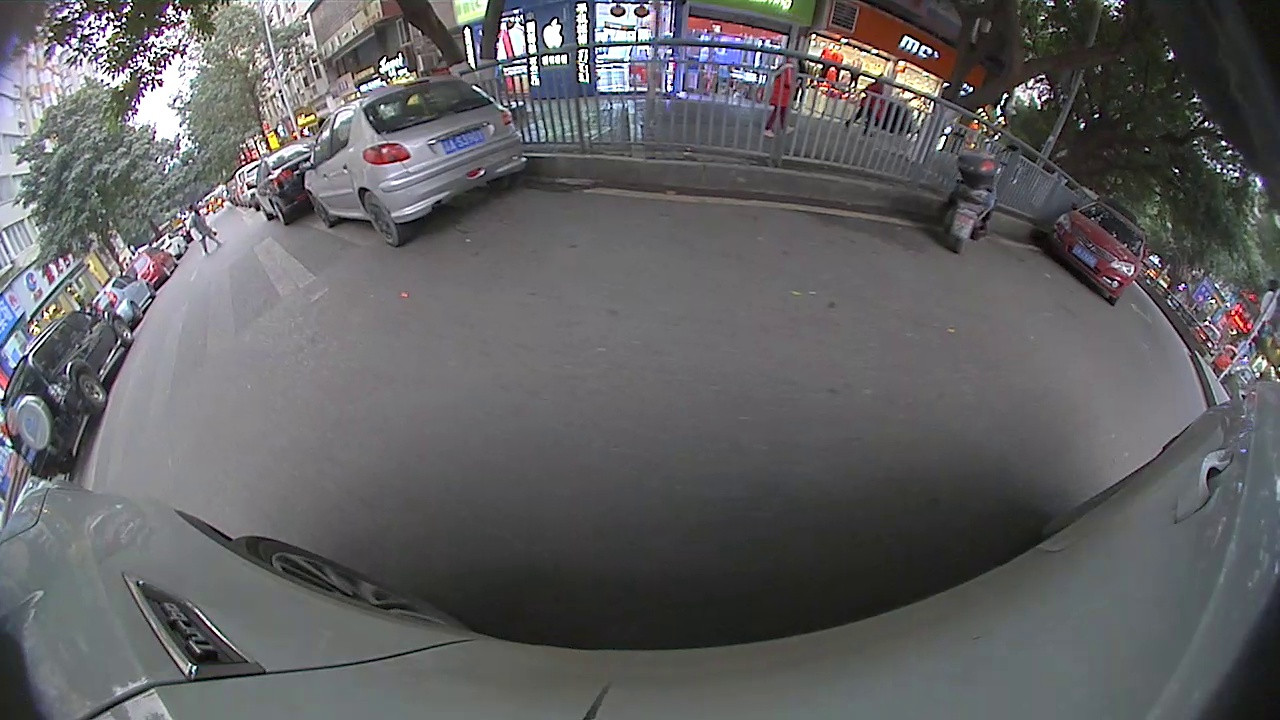car: (305, 73, 527, 249), (2, 307, 134, 481), (1047, 200, 1147, 303), (254, 142, 315, 223), (93, 276, 152, 330), (127, 254, 165, 290)
front: (110, 318, 135, 343)
person: (190, 204, 208, 259)
rear: (360, 193, 402, 247), (80, 375, 107, 411)
rider: (945, 124, 1020, 254)
